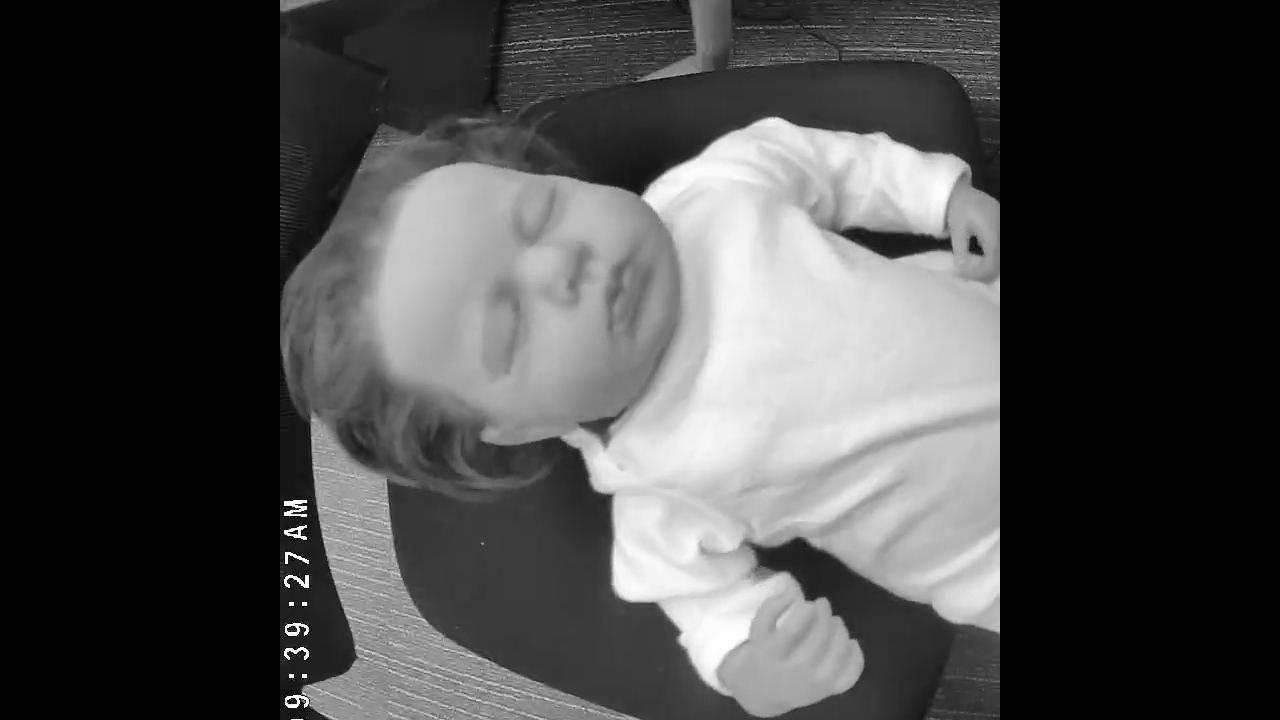hand: (720, 584, 866, 720), (946, 182, 998, 282)
